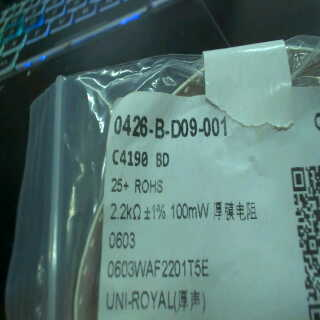2.2kR: (105, 200, 143, 221)
